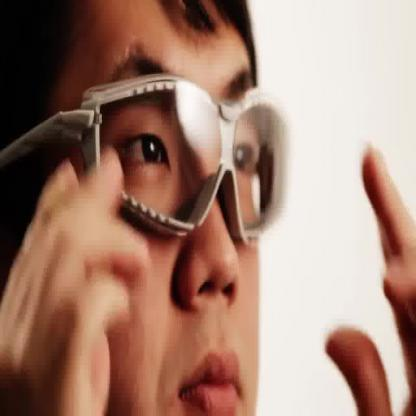goggles: (1, 74, 294, 247)
